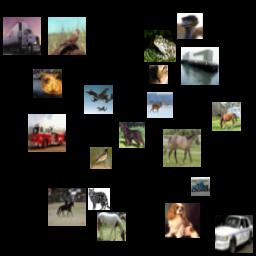airplane: (84, 85, 113, 114)
automobile: (215, 215, 253, 253)
bird: (48, 17, 86, 55), (177, 13, 203, 39), (90, 147, 112, 169)
cat: (33, 69, 62, 98), (88, 188, 110, 210), (149, 65, 168, 84)
deer: (147, 92, 173, 118)
dog: (165, 203, 200, 238), (119, 122, 145, 148)
frog: (144, 30, 176, 62)
ship: (181, 47, 219, 85)
truck: (28, 114, 66, 152), (3, 17, 41, 55), (191, 177, 210, 196)
